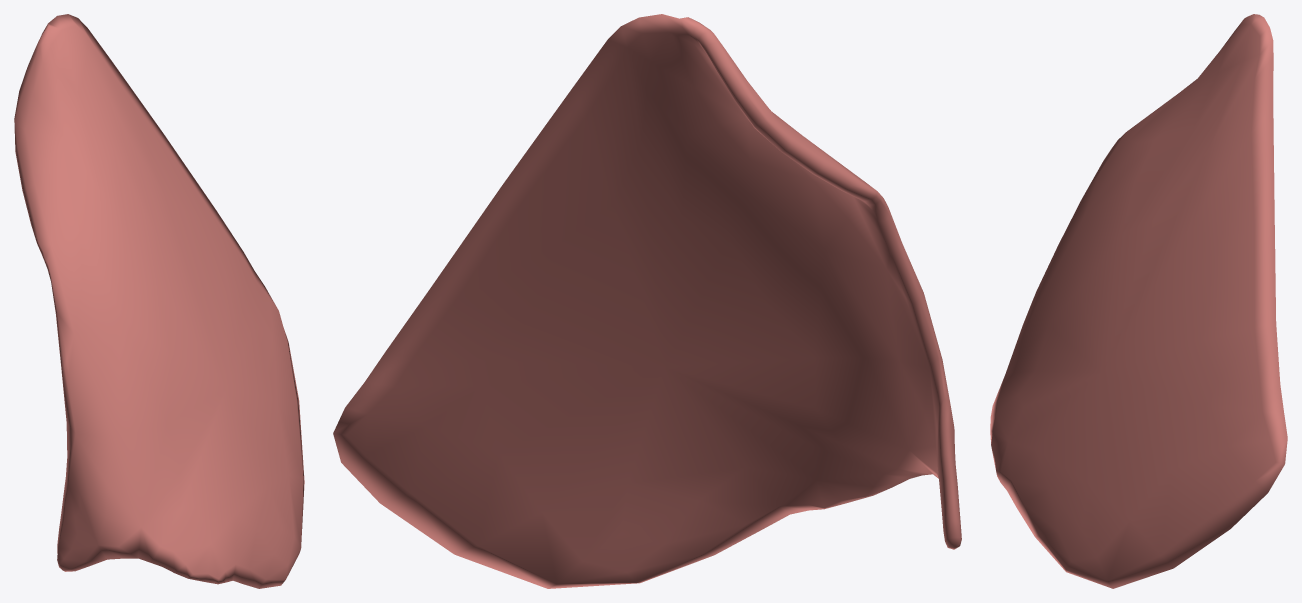
3 renders of one model, left to right at view 1: azimuth 30°, elevation 25°; view 2: azimuth 150°, elevation 25°; view 3: azimuth 270°, elevation 25°, orthographic. The views are drawn at different scales.
Visible parts, largest first — view 1: ZA_4a88d015509b705d; view 2: ZA_4a88d015509b705d; view 3: ZA_4a88d015509b705d.
Boxes of the visible parts, box(x1,y1,x2,y2) form: ZA_4a88d015509b705d: box(14, 14, 304, 588); ZA_4a88d015509b705d: box(333, 14, 961, 588); ZA_4a88d015509b705d: box(990, 14, 1287, 588).
Bounding box in the file's own units: 0.0138 × 0.0201 × 0.0109.
